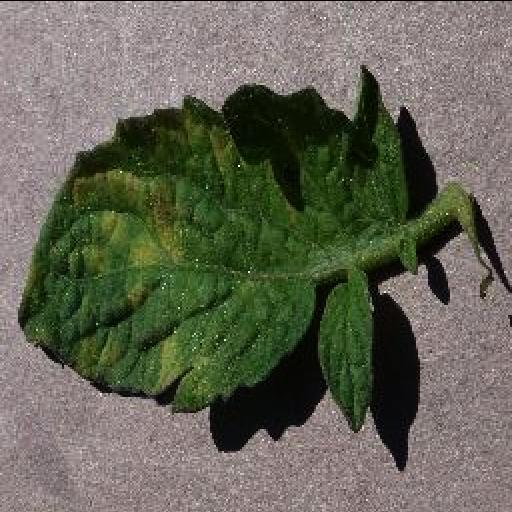disease_tomato: (16, 60, 410, 409)
